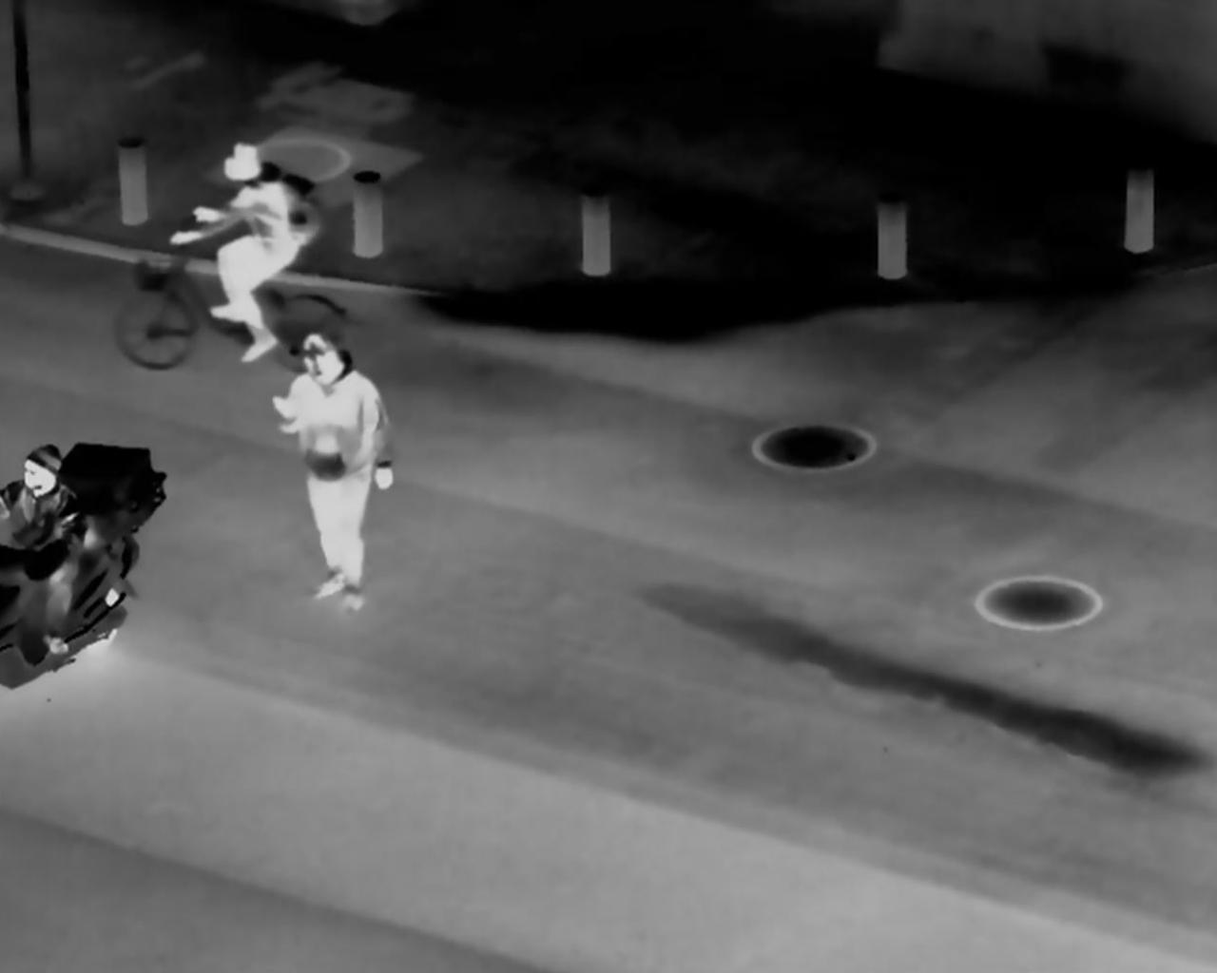person: (270, 331, 396, 611), (186, 135, 314, 354), (7, 431, 98, 663)
